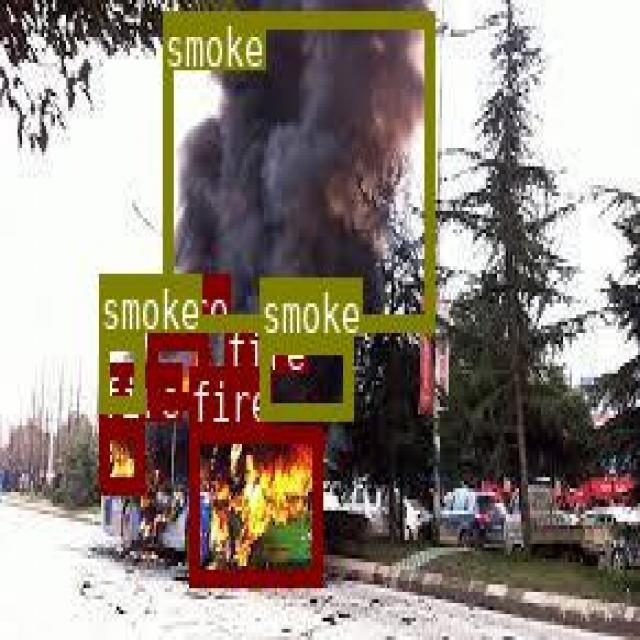fire: (189, 423, 319, 584), (145, 332, 205, 405), (98, 421, 141, 491), (223, 373, 243, 408)
smoke: (162, 8, 432, 327), (258, 336, 350, 415), (99, 333, 143, 408)
